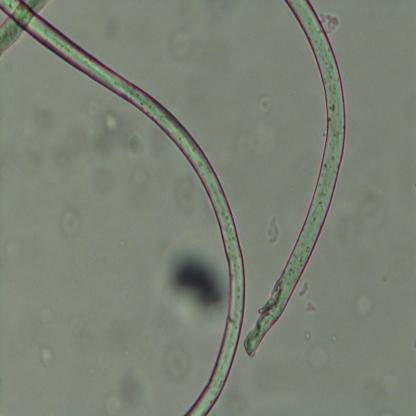Background material: (165, 245, 228, 323), (80, 107, 142, 159), (97, 360, 149, 412), (158, 338, 195, 386), (54, 200, 83, 240), (156, 29, 191, 60), (350, 280, 372, 321), (262, 206, 282, 247), (300, 280, 319, 314), (319, 10, 343, 34), (257, 92, 275, 117), (38, 343, 53, 367)
Microfibre: (0, 1, 246, 415), (243, 0, 345, 359), (0, 1, 46, 57)
